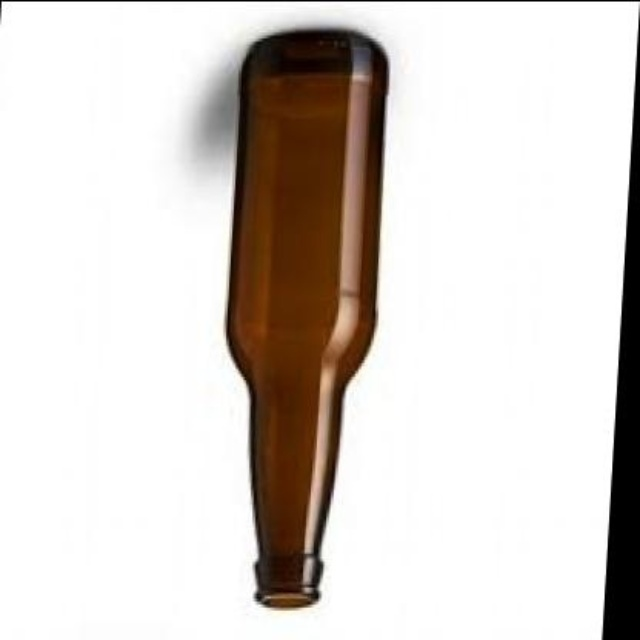trash: (226, 31, 386, 606)
